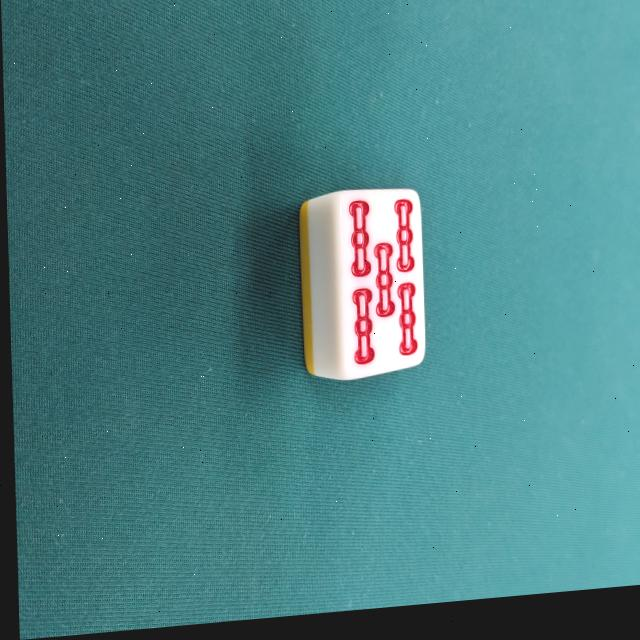D5s: (293, 194, 422, 388)
